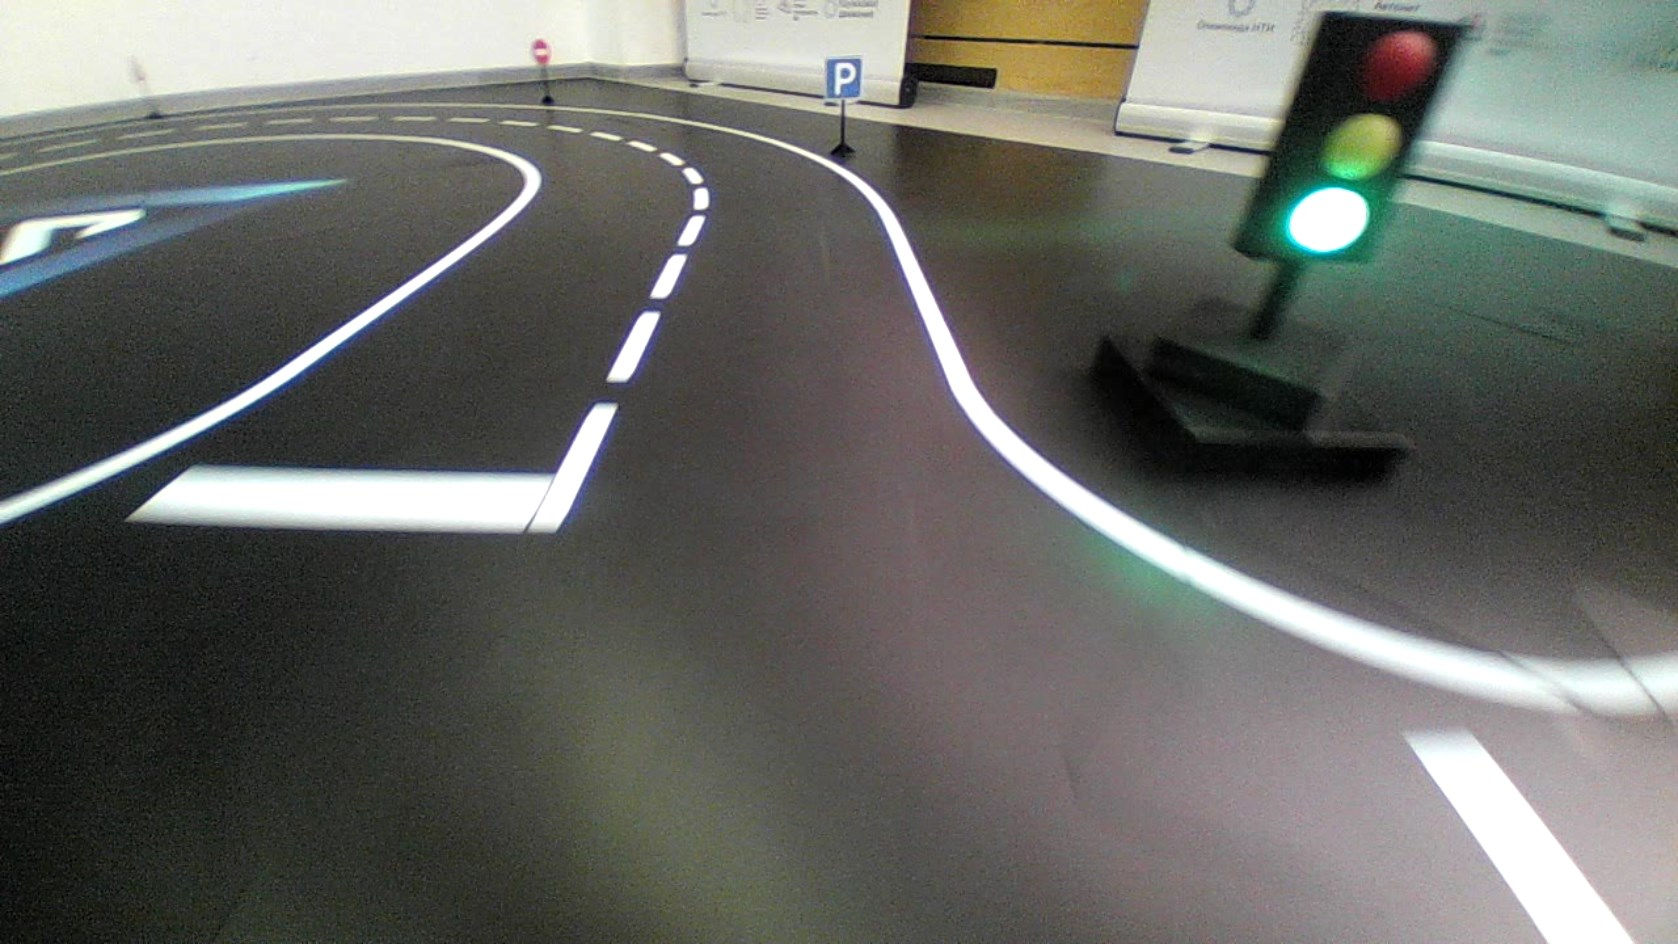trafficlight: (1224, 8, 1475, 266)
